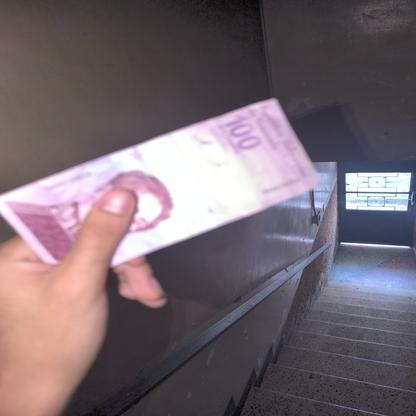one_hundred-front-vef: (0, 97, 322, 270)
